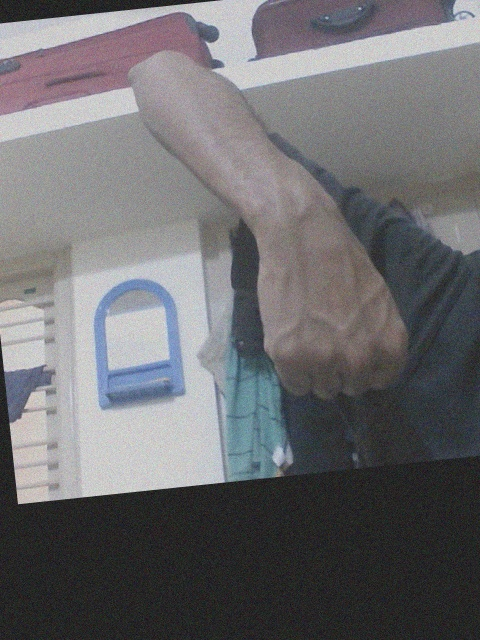hand: (254, 213, 413, 403)
